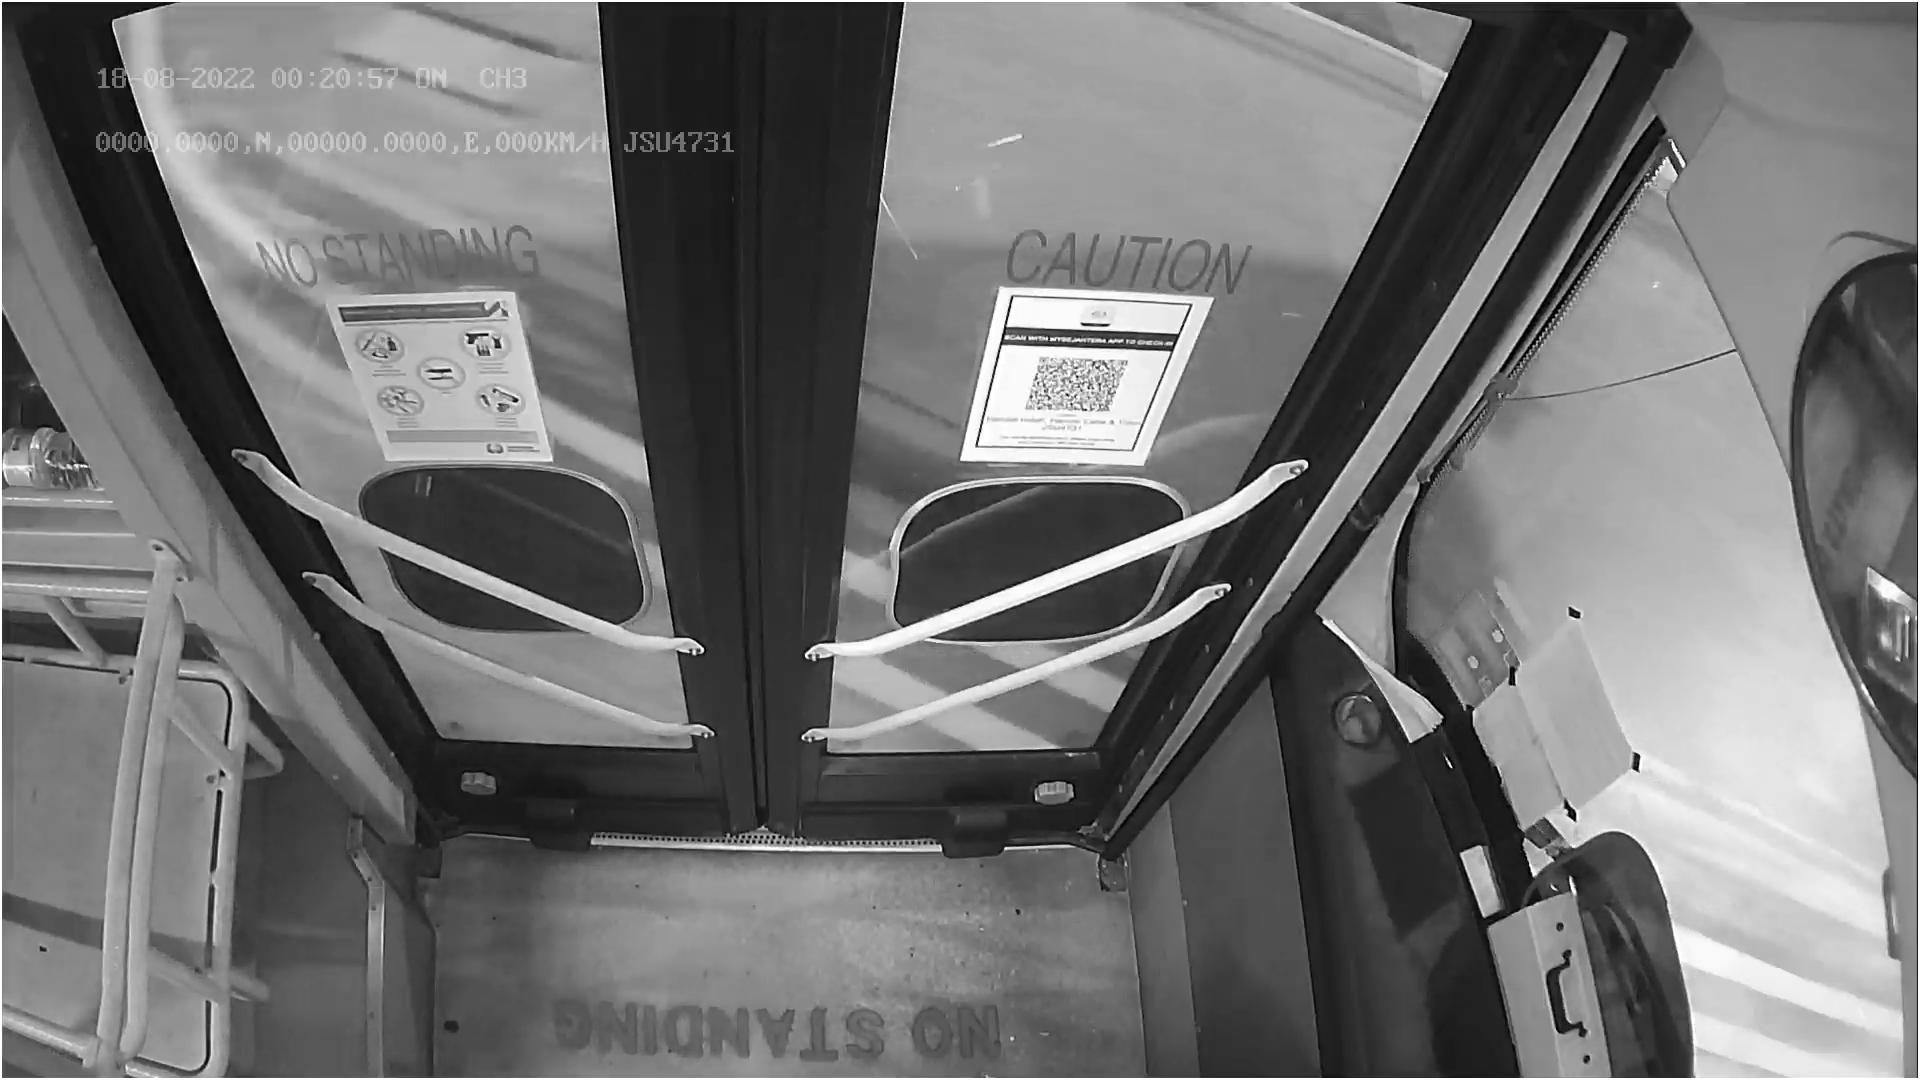close: (115, 0, 1441, 160)
